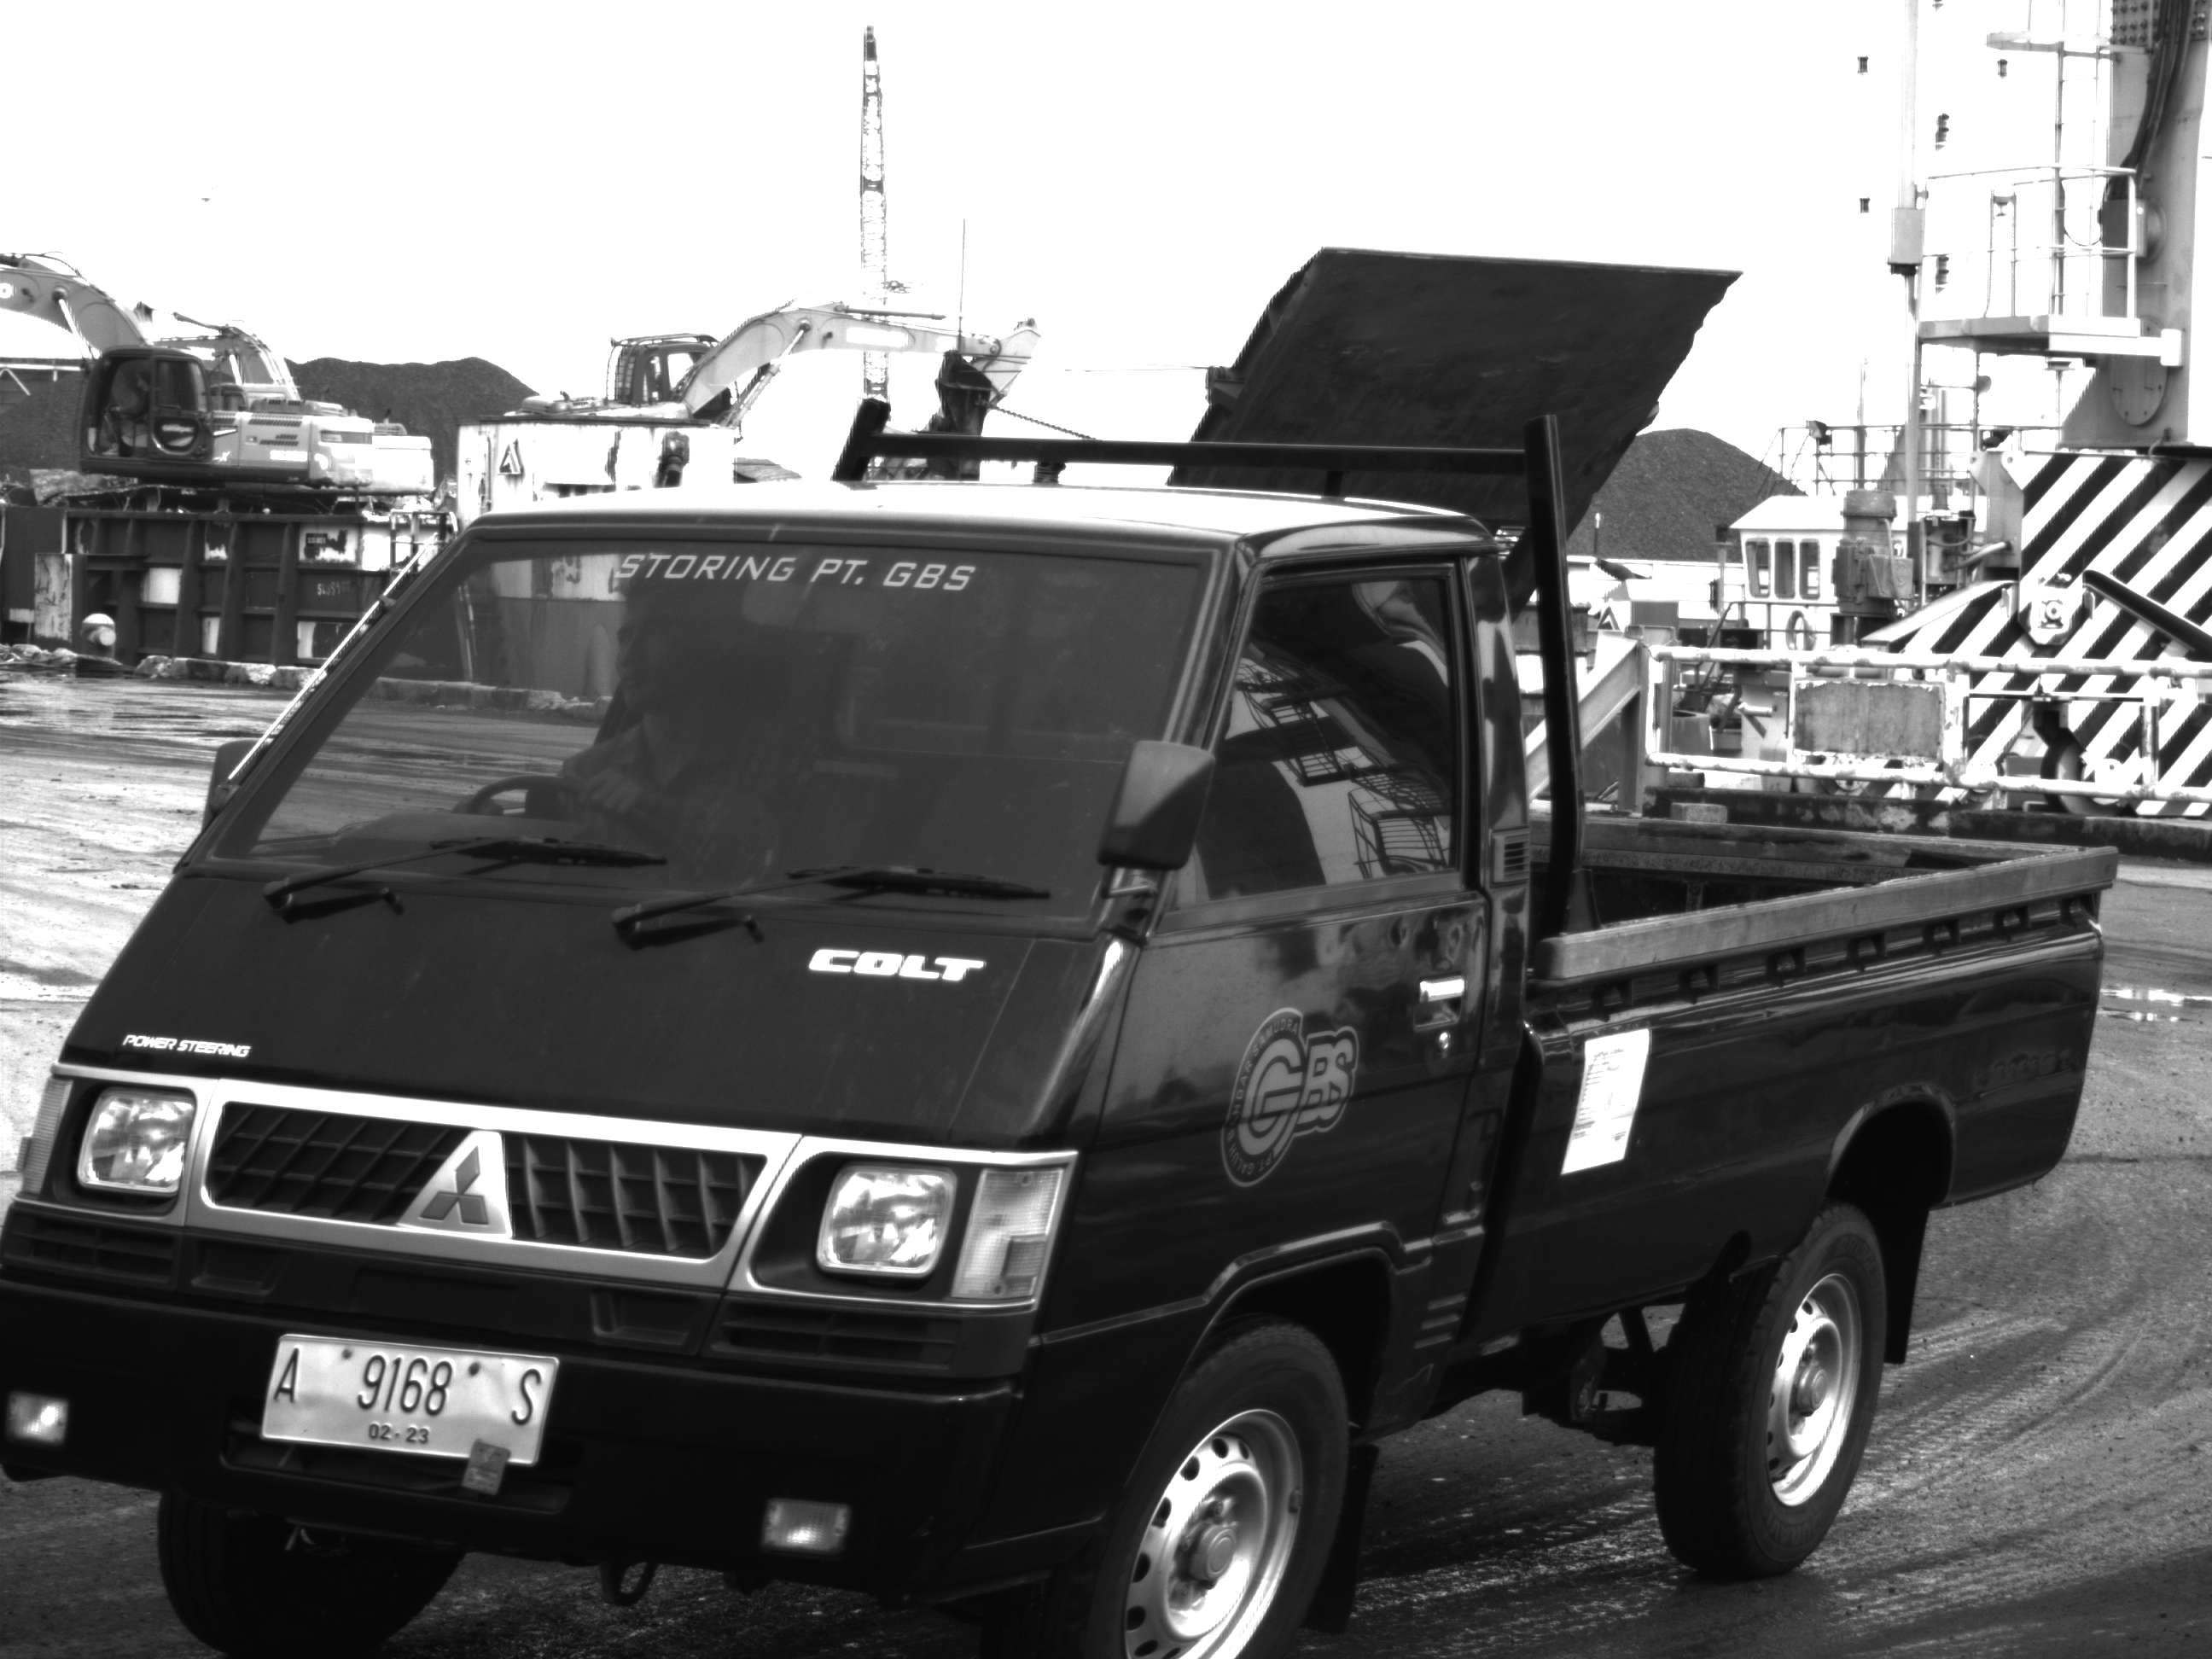day_small_truck_front: (23, 343, 2134, 1659)
plate: (254, 1328, 561, 1477)
